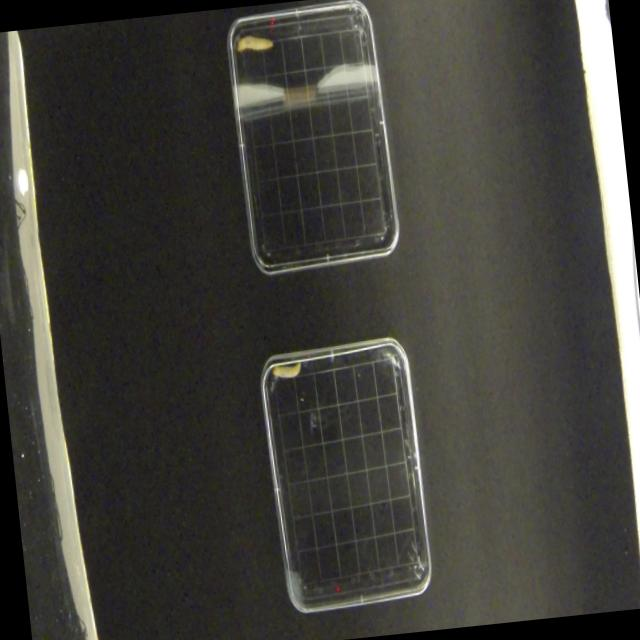larva: (235, 31, 274, 54)
